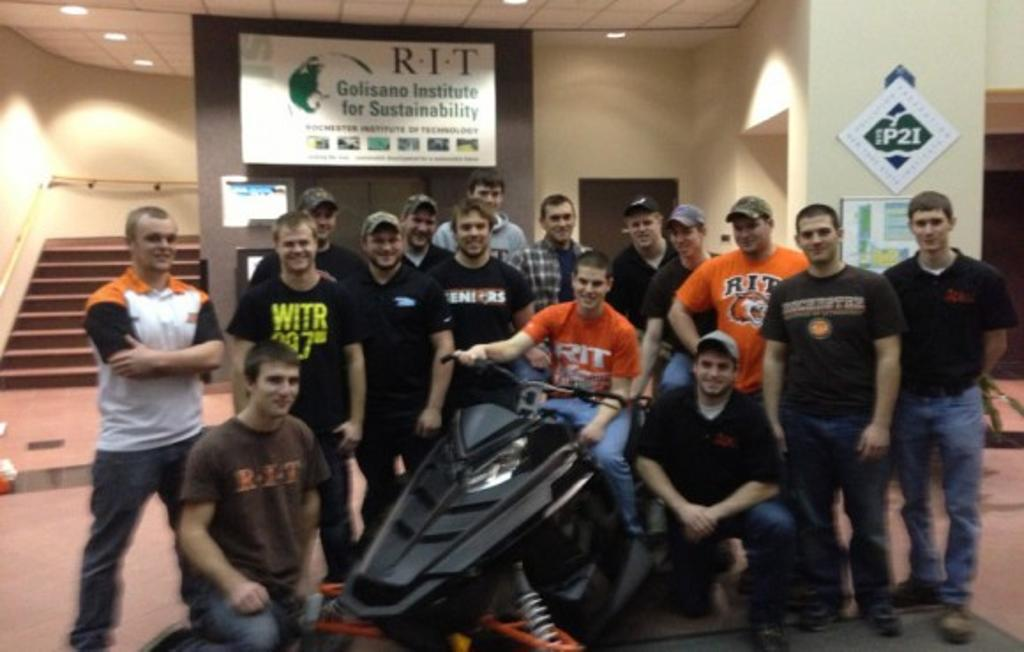face: (257, 371, 300, 414), (135, 227, 178, 270), (799, 222, 837, 261), (698, 356, 734, 394), (278, 235, 316, 270), (913, 213, 948, 250), (368, 231, 403, 267), (733, 217, 767, 252), (457, 221, 490, 256), (575, 273, 607, 309), (307, 206, 337, 240), (406, 214, 436, 248), (629, 214, 658, 248), (546, 208, 574, 241), (671, 225, 697, 258), (474, 188, 502, 217)
